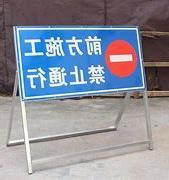sign: (14, 25, 146, 98)
